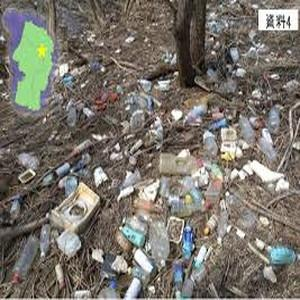Plastic: (118, 222, 144, 246), (200, 127, 218, 157), (237, 114, 254, 142), (40, 222, 51, 260)
